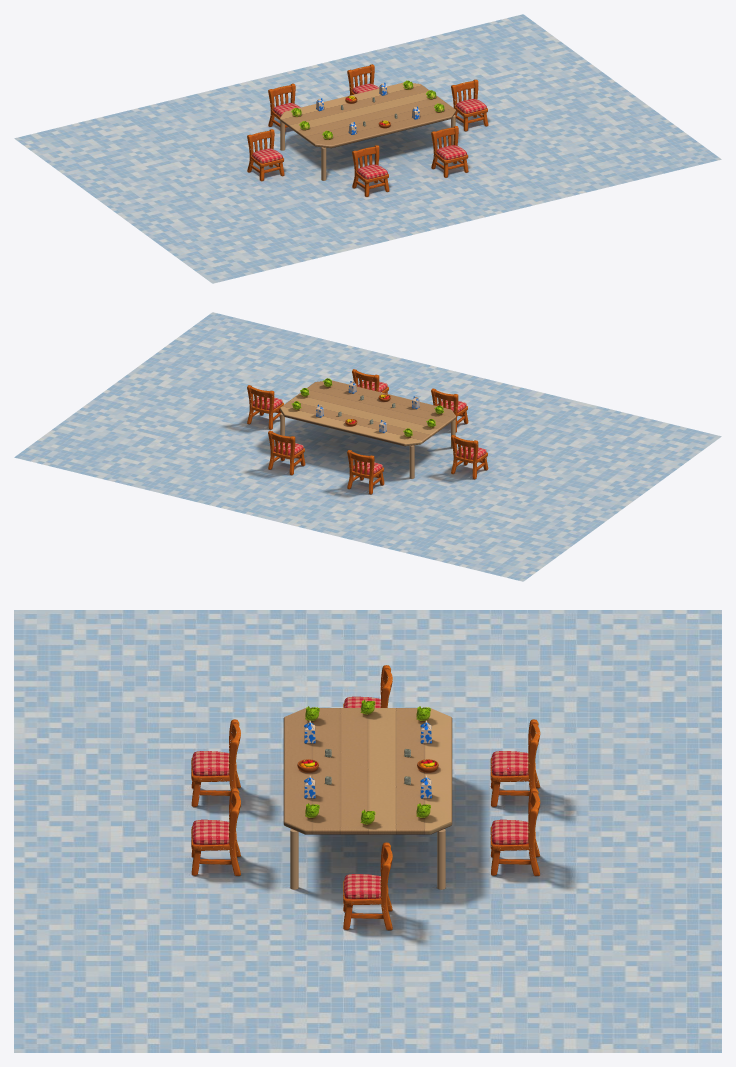
File: escena.glb
The picture shows the model from 3 angles, top to bottom: view 1: azimuth 30°, elevation 25°; view 2: azimuth 150°, elevation 25°; view 3: azimuth 270°, elevation 25°; orthographic projection. The views are drawn at different scales.
Parts seen in each view (by area): view 1: HORNEADO_suelo, HORNEADO_tablero, silla_2, silla_5, silla_4, silla_3, silla_0, silla_1; view 2: HORNEADO_suelo, HORNEADO_tablero, silla_2, silla_1, silla_0, silla_3, silla_4, silla_5; view 3: HORNEADO_suelo, HORNEADO_tablero, silla_1, silla_5, silla_3, silla_0, silla_4, silla_2.
Part boxes in pixels (x1,y1,x2,y2): HORNEADO_suelo: (14,14,721,283); HORNEADO_tablero: (279,82,456,148); silla_2: (247,129,284,181); silla_5: (431,126,468,177); silla_4: (352,145,389,196); silla_3: (451,79,488,131); silla_0: (268,83,300,131); silla_1: (347,64,378,95); HORNEADO_suelo: (14,312,721,581); HORNEADO_tablero: (279,380,456,446); silla_2: (451,435,488,479); silla_1: (268,430,305,475); silla_0: (347,450,384,494); silla_3: (247,385,283,429); silla_4: (431,388,468,432); silla_5: (352,369,388,393); HORNEADO_suelo: (14,610,721,1052); HORNEADO_tablero: (283,708,452,834); silla_1: (490,788,540,875); silla_5: (191,788,240,875); silla_3: (343,842,392,930); silla_0: (490,719,540,806); silla_4: (191,719,240,806); silla_2: (343,665,392,707).
Size of the model in its own units: 137 by 11.81 by 92.4.
8 materials, 7 textured.
